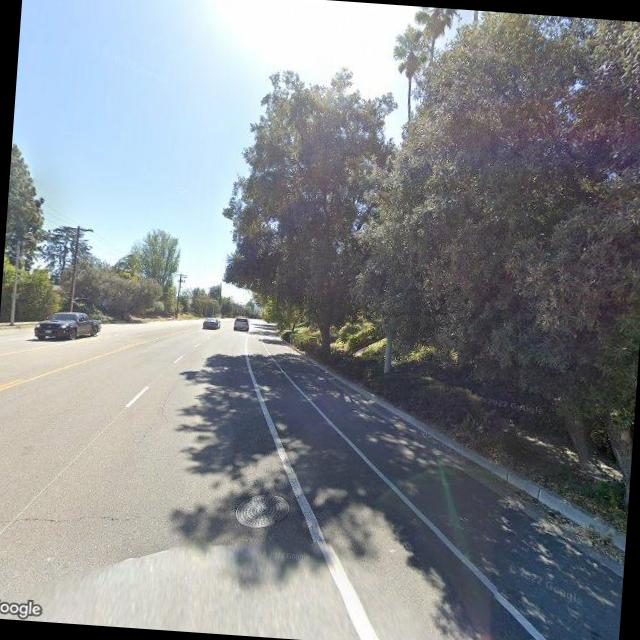crack: (0, 501, 145, 533)
